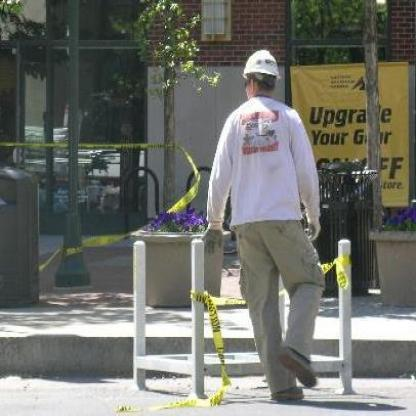person: (204, 47, 325, 404)
